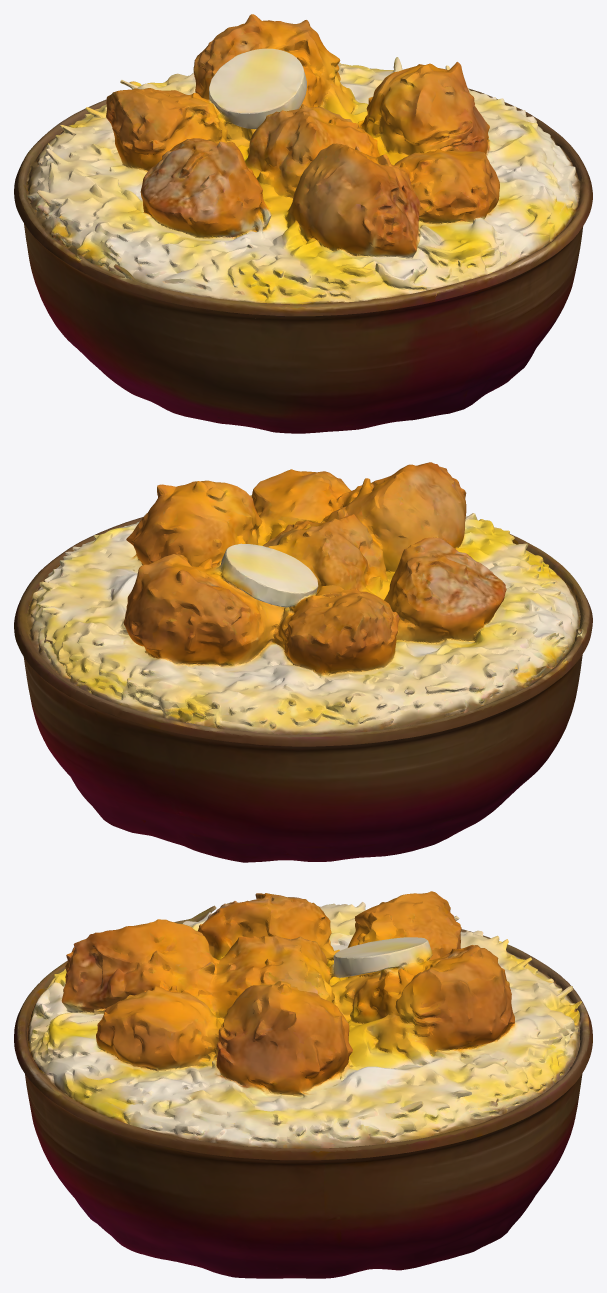
The model's file is biryani-model.glb.
The picture shows the model from 3 angles, top to bottom: view 1: azimuth 30°, elevation 25°; view 2: azimuth 150°, elevation 25°; view 3: azimuth 270°, elevation 25°; orthographic projection.
Parts seen in each view (by area): view 1: model; view 2: model; view 3: model.
Part boxes in pixels (x1,y1,x2,y2): model: (14, 14, 592, 433); model: (14, 462, 592, 862); model: (14, 891, 592, 1278).
Bounding box in the file's own units: 1.9 × 0.9411 × 1.9.
1 material, 1 textured.
